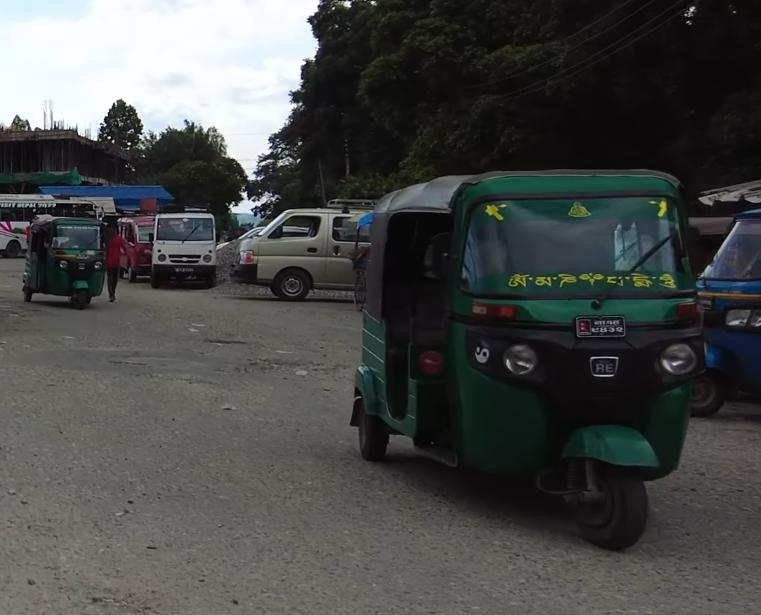auto_rickshaw: (339, 156, 712, 556), (695, 196, 761, 417), (22, 209, 116, 315)
van: (150, 206, 219, 290)
